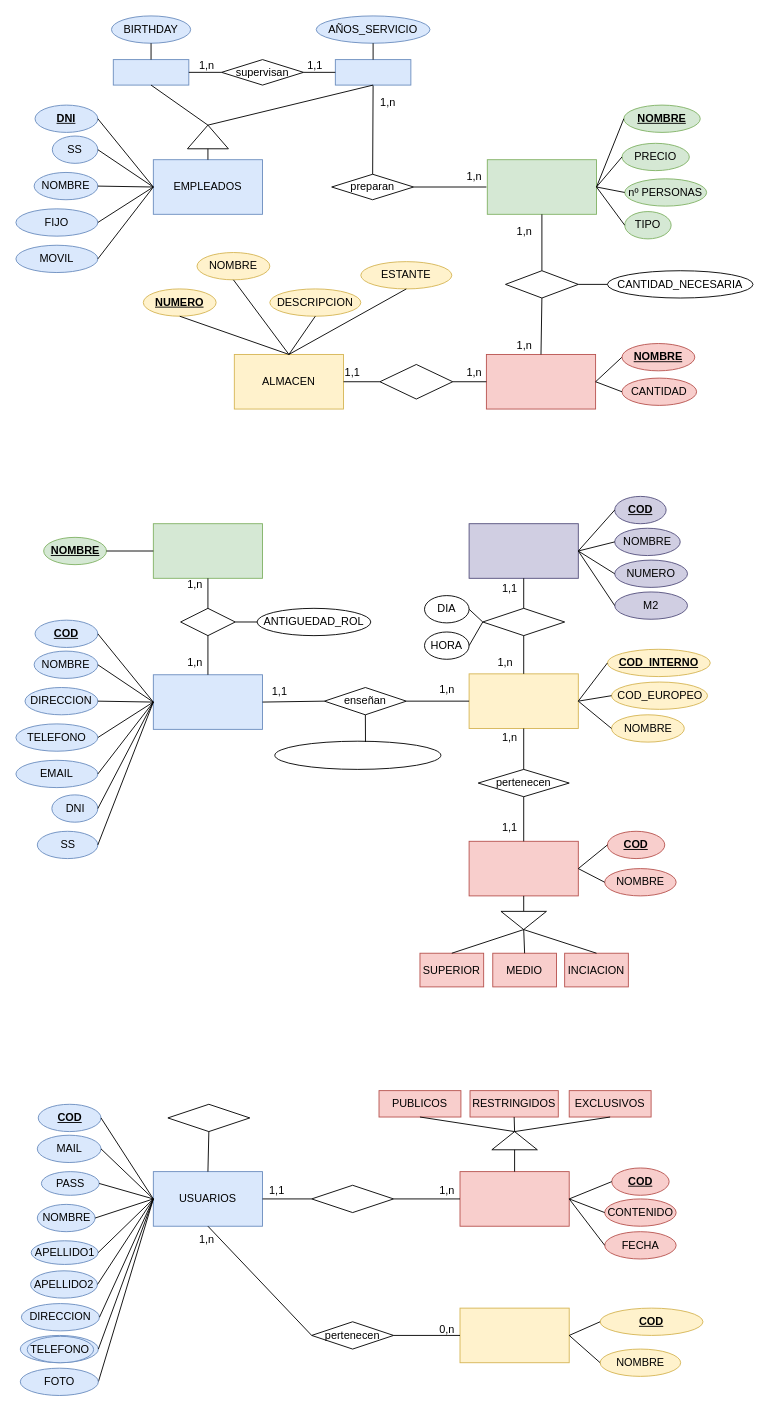
This 769x1411 diagram has some shape labels left out. The shapes that lost their labels are listed below. From the top down, each one's centre as x and y in pixels, then its label:
the point at 150,72: PINCHES
the point at 372,72: COCINEROS
the point at 207,136: P,E
the point at 541,186: PLATOS
the point at 541,284: tienen
the point at 416,381: guardan
the point at 540,381: INGREDIENTES
the point at 207,550: ROLES
the point at 523,550: AULA
the point at 207,621: tiene
the point at 523,621: ocupan
the point at 207,701: PROFESORES
the point at 523,700: ASIGNATURAS
the point at 357,754: ANTIGUEDAD_ASIGNATURA
the point at 523,868: CICLOS
the point at 208,1117: contactan
the point at 352,1198: escriben
the point at 514,1198: COMENTARIOS
the point at 514,1335: GRUPOS
